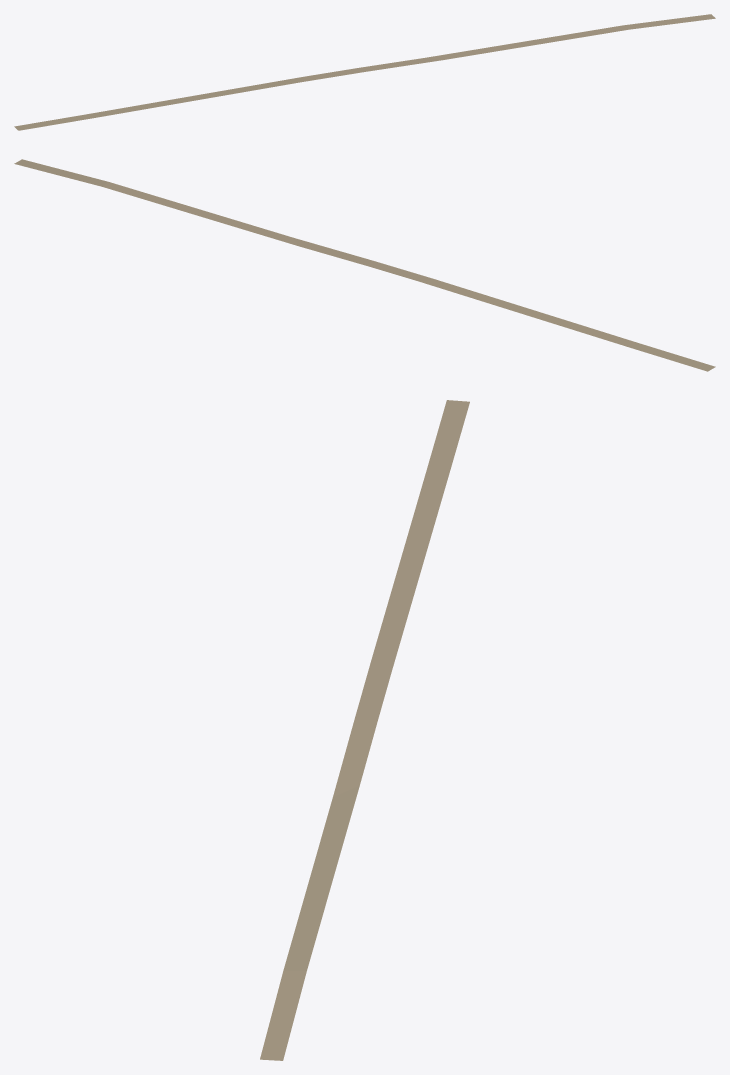
The model's file is farm_31_24_track.glb.
The picture shows the model from 3 angles, top to bottom: view 1: azimuth 30°, elevation 25°; view 2: azimuth 150°, elevation 25°; view 3: azimuth 270°, elevation 25°; orthographic projection. The views are drawn at different scales.
Parts seen in each view (by area): view 1: geometry_0; view 2: geometry_0; view 3: geometry_0.
Boxes of the visible parts, left/top/right/bottom form: geometry_0: left=14, top=14, right=715, bottom=130; geometry_0: left=14, top=159, right=715, bottom=371; geometry_0: left=260, top=400, right=469, bottom=1060.
Size of the model in its own units: 210 by 3.81 by 29.39.
